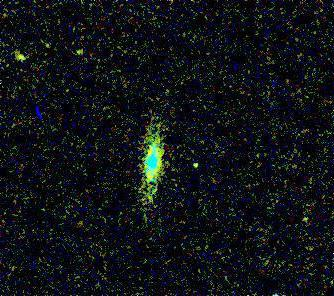star: (183, 150, 213, 180)
